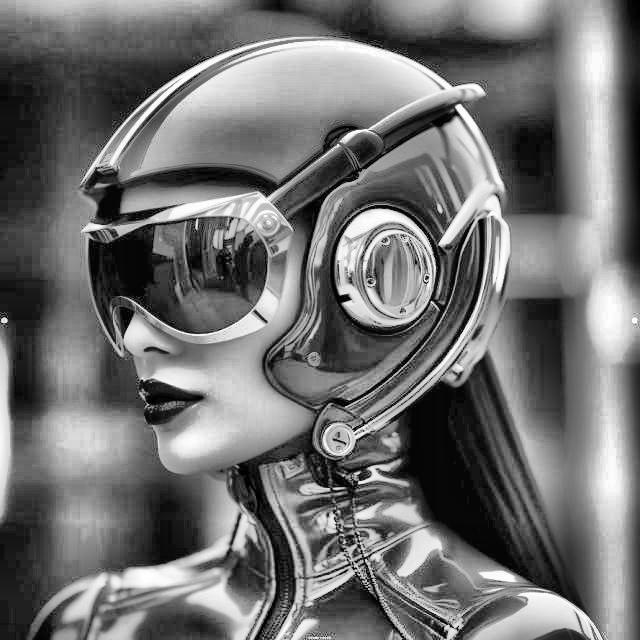Helmet: (69, 27, 519, 491)
